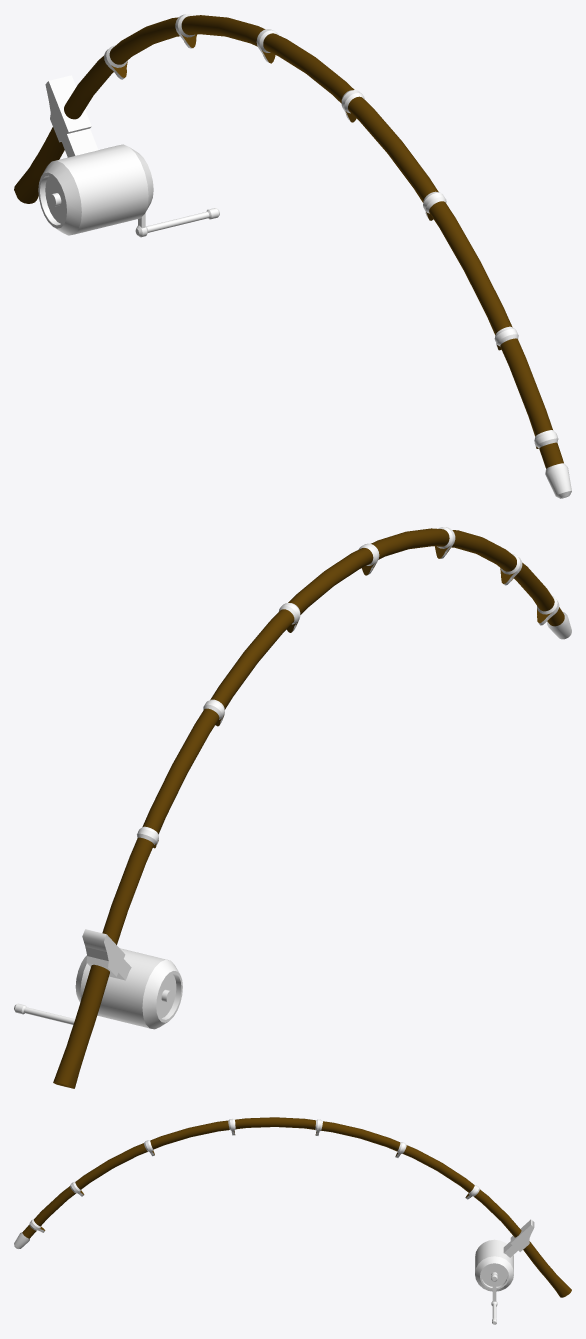
The model's file is Rod Model.fbx.
3 renders of one model, top to bottom at view 1: azimuth 30°, elevation 25°; view 2: azimuth 150°, elevation 25°; view 3: azimuth 270°, elevation 25°, orthographic. The views are drawn at different scales.
Parts seen in each view (by area): view 1: pCylinder2, pCylinder3, pCube1, pCylinder1, pCylinder4; view 2: pCylinder2, pCylinder3, pCylinder1, pCube1; view 3: pCylinder2, pCylinder3, pCylinder1, pCube1.
Part boxes in pixels (x1,y1,x2,y2): pCylinder2: (64,14,571,498); pCylinder3: (38,144,153,235); pCube1: (45,75,98,157); pCylinder1: (14,127,64,203); pCylinder4: (135,208,219,237); pCylinder2: (102,527,571,944); pCylinder3: (75,948,182,1029); pCylinder1: (53,964,109,1088); pCube1: (82,929,131,980); pCylinder2: (14,1117,521,1249); pCylinder3: (475,1239,513,1291); pCylinder1: (523,1241,571,1297); pCube1: (503,1219,534,1257).
Bounding box in the file's own units: 1.13 × 2.29 × 6.46.
